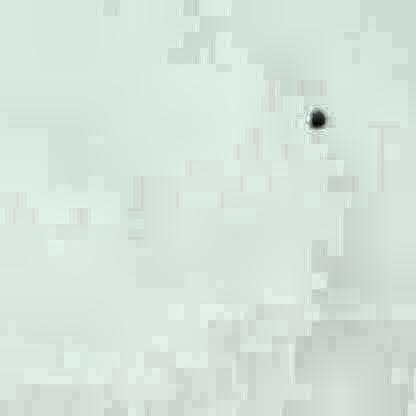golfball: (305, 104, 323, 123)
